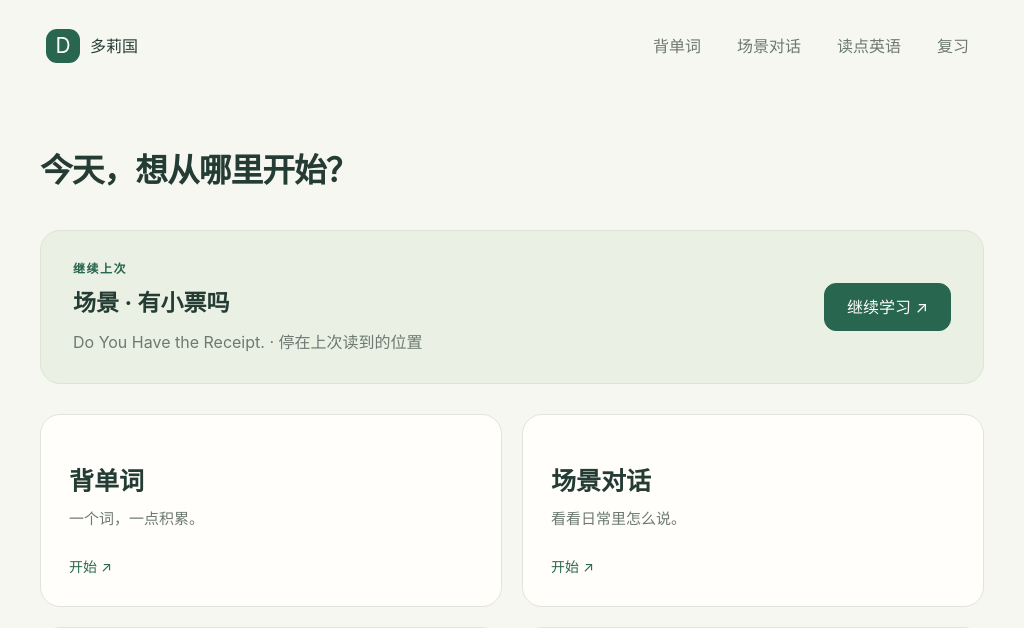
Test: resumes latest scene scene-have-the-receipt directly
Click the button "继续学习 ↗": (888, 307) [824,283,951,332]
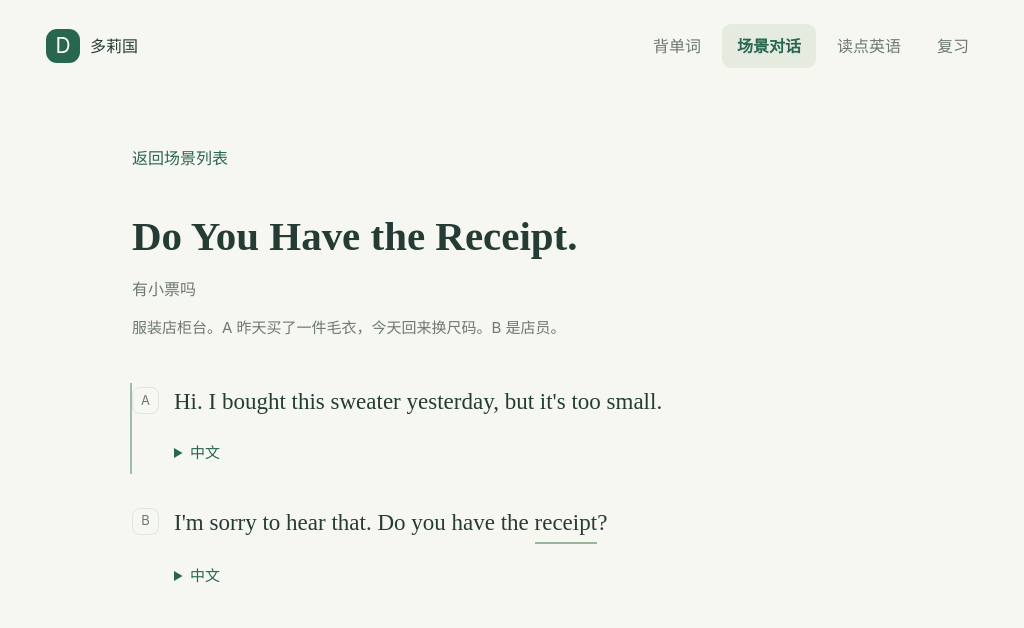
Result: the heading "Do You Have the Receipt." is shown at [132,213,578,259]
